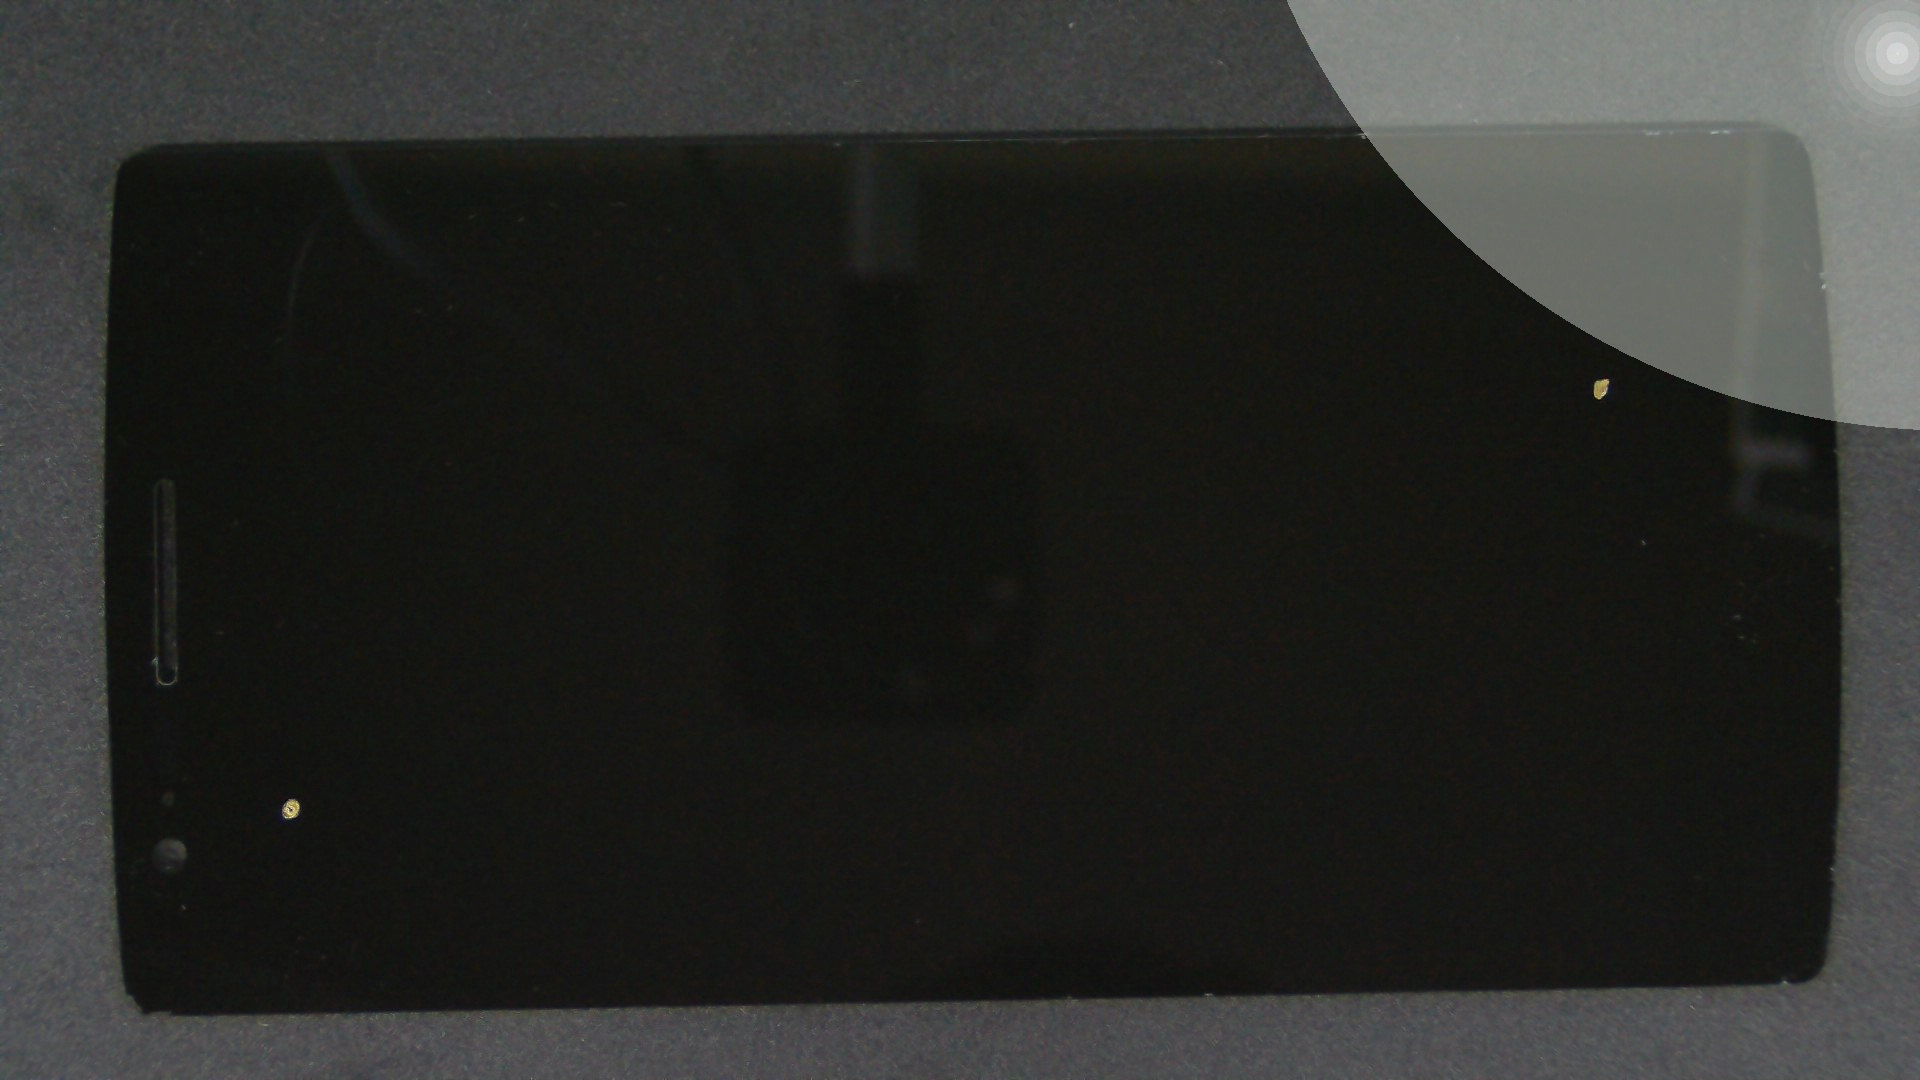oil: (804, 189, 1920, 567), (146, 396, 427, 1080)
